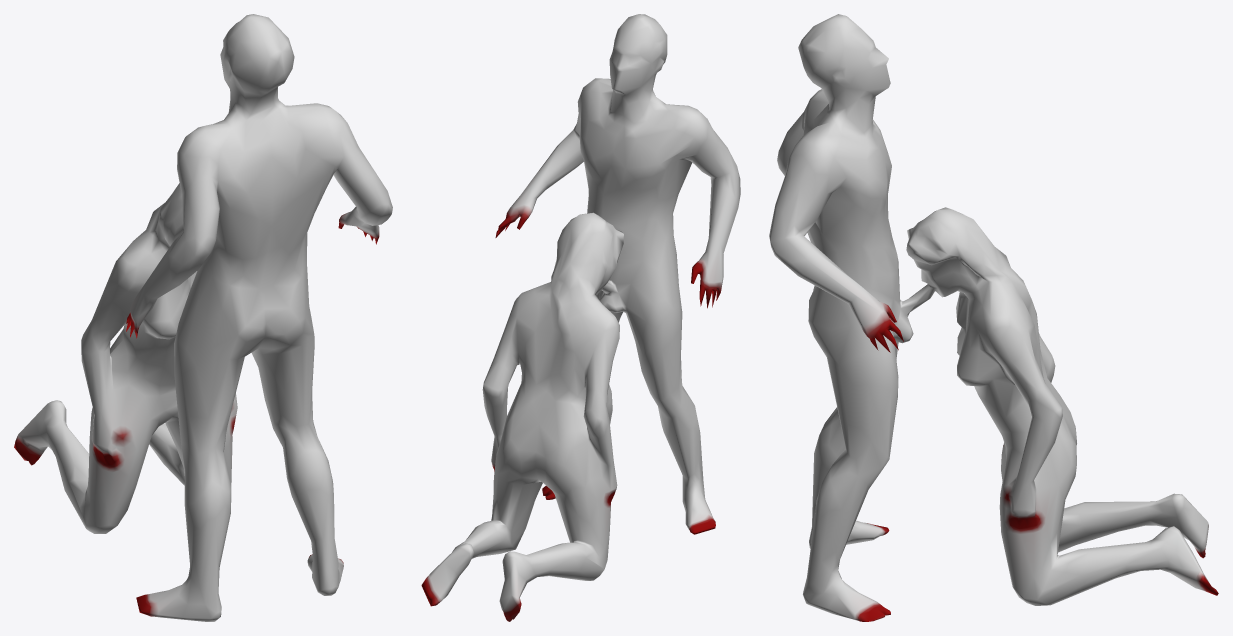
File: position1_low.fbx
3 renders of one model, left to right at view 1: azimuth 30°, elevation 25°; view 2: azimuth 150°, elevation 25°; view 3: azimuth 270°, elevation 25°, orthographic. The views are drawn at different scales.
Parts seen in each view (by area): view 1: blowjob_female; view 2: blowjob_female; view 3: blowjob_female.
Boxes of the visible parts, bbox=[...] form: blowjob_female: bbox=[14, 14, 392, 621]; blowjob_female: bbox=[421, 14, 740, 621]; blowjob_female: bbox=[769, 14, 1218, 621].
Size of the model in its own units: 0.3301 by 0.7243 by 0.5262.
